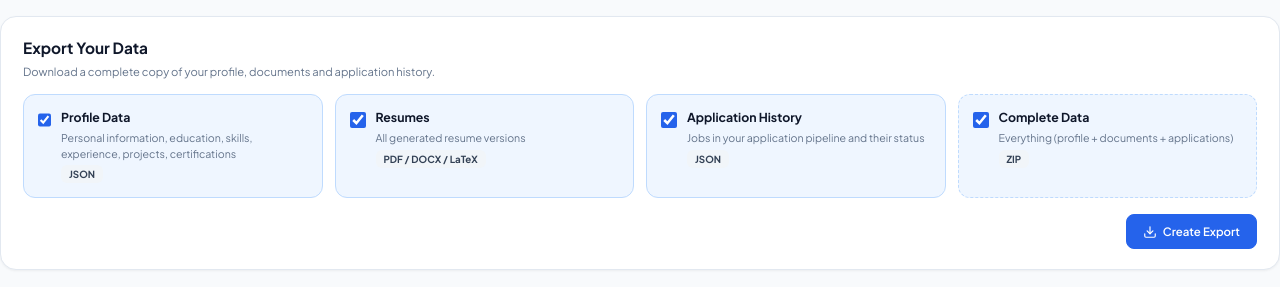
DataExport › shows the server error
Click the button "Create Export" at (1191, 232), box [1126, 214, 1257, 250]
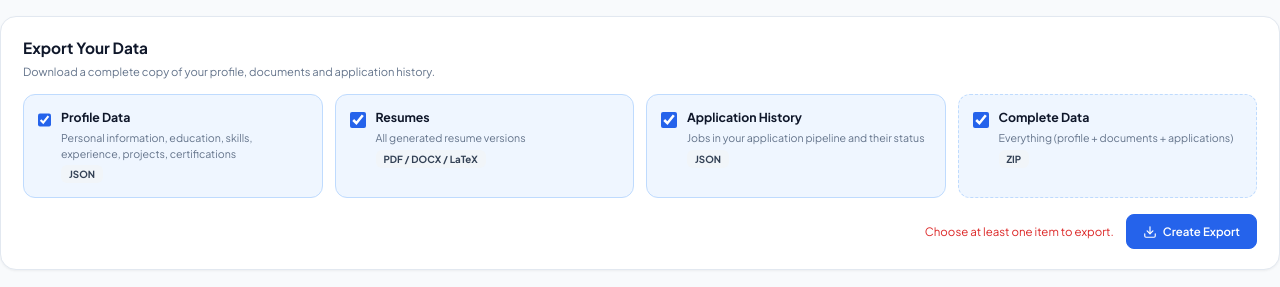
Expected: the message reads "Choose at least one item to export.", [925, 224, 1114, 239]
